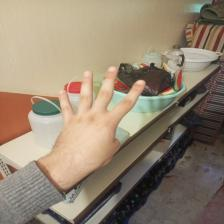four: (57, 65, 144, 170)
